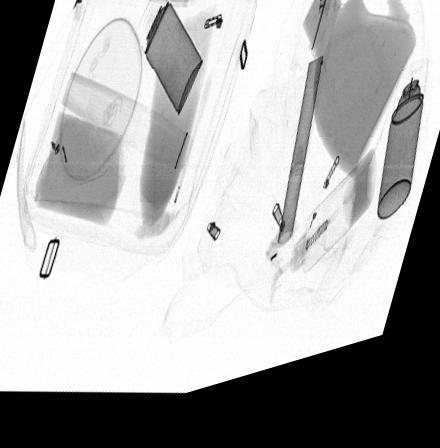Sprayer: (134, 0, 201, 124), (375, 84, 427, 242)
